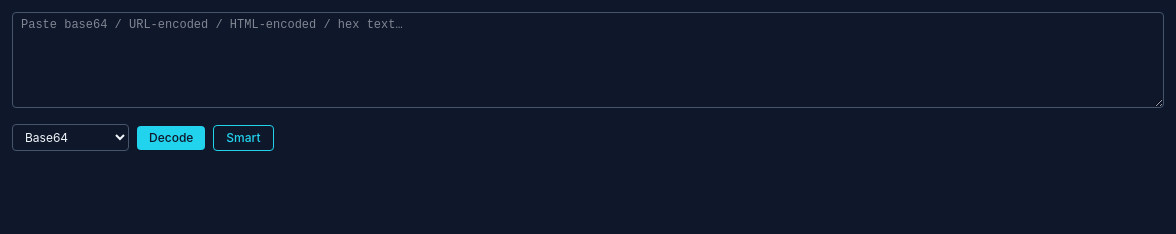
Test case: DecoderPanel › smart-decodes a base64-wrapped-URL-encoded string
Type "aGklMjB0aGVyZSUyMQ==" into the text box with test id "decoder-panel-input".
click(588, 60); type("aGklMjB0aGVyZSUyMQ==")  # box left=12, top=12, right=1164, bottom=108
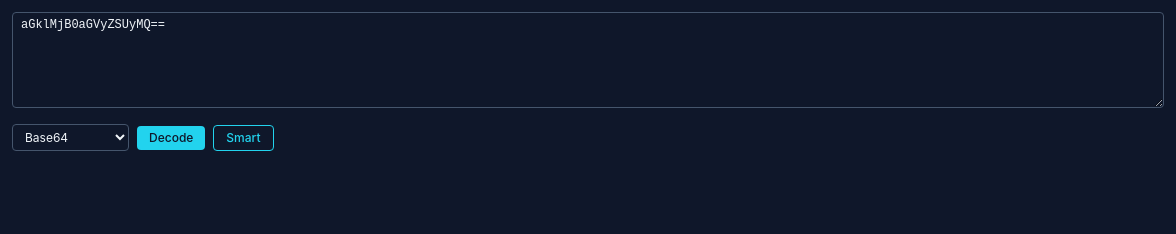
Click the button with test id "decoder-panel-smart".
click(244, 138)  # box left=213, top=124, right=274, bottom=150
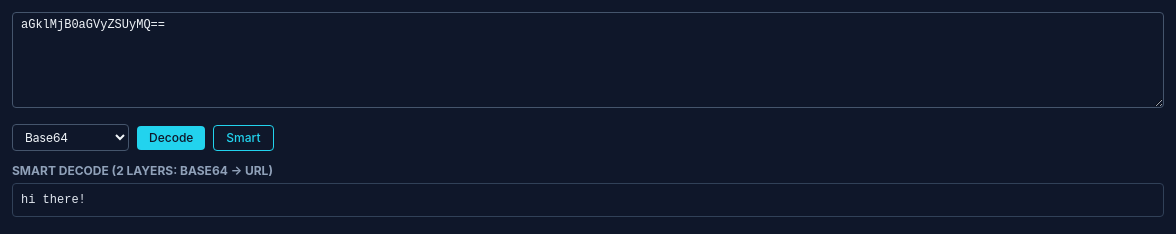
Check: the text with test id "decoder-panel-smart-layers" reads "base64 → url", box left=180, top=163, right=268, bottom=178
Check: the text with test id "decoder-panel-smart-result" reads "hi there!", box left=21, top=193, right=86, bottom=207
